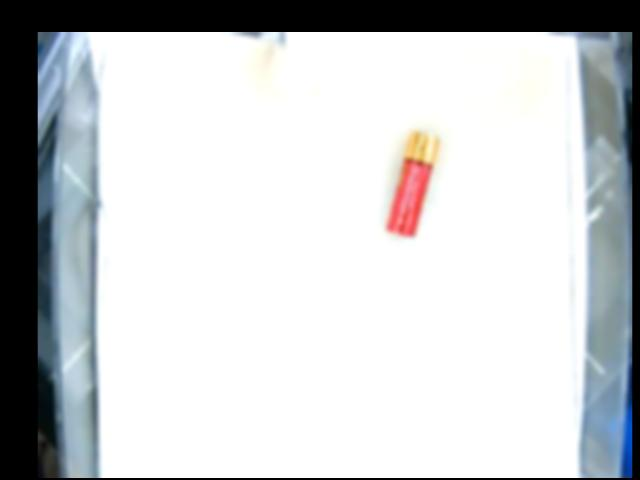Battery: (385, 129, 439, 237)
